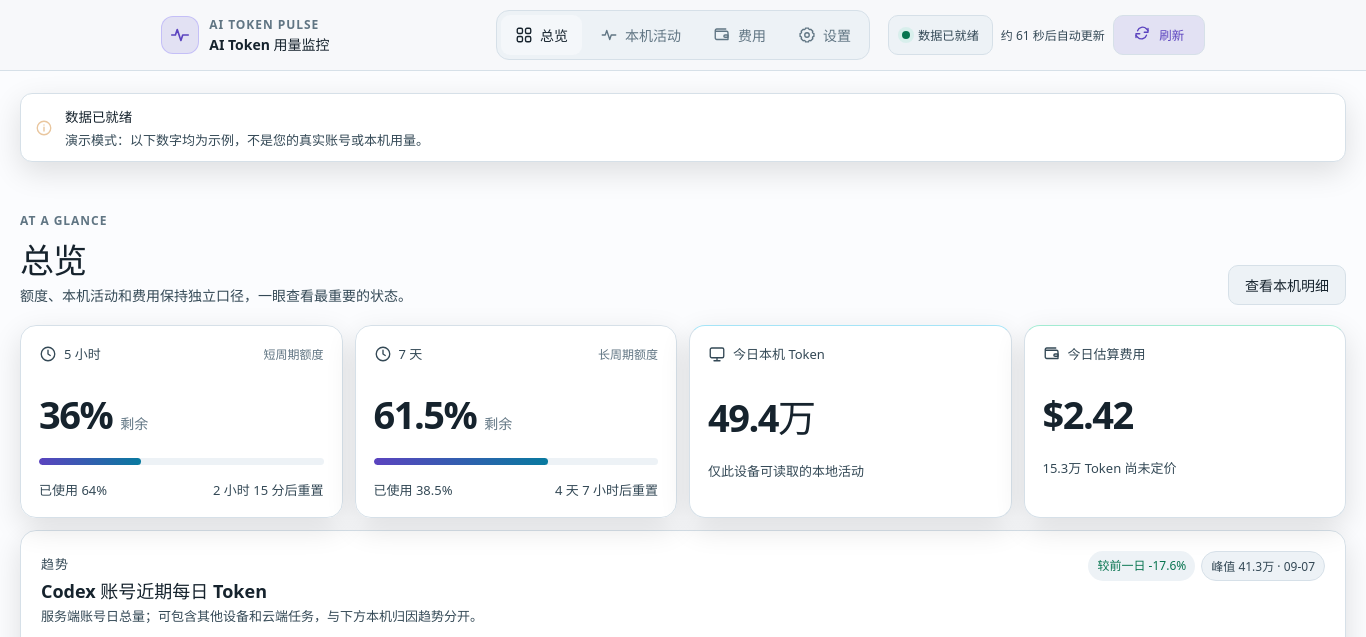
dashboard interactions › uses dedicated wrappers for empty model and project attribution states
Click the button "本机活动": (640, 35) [586,15,695,55]
(page scrolled)
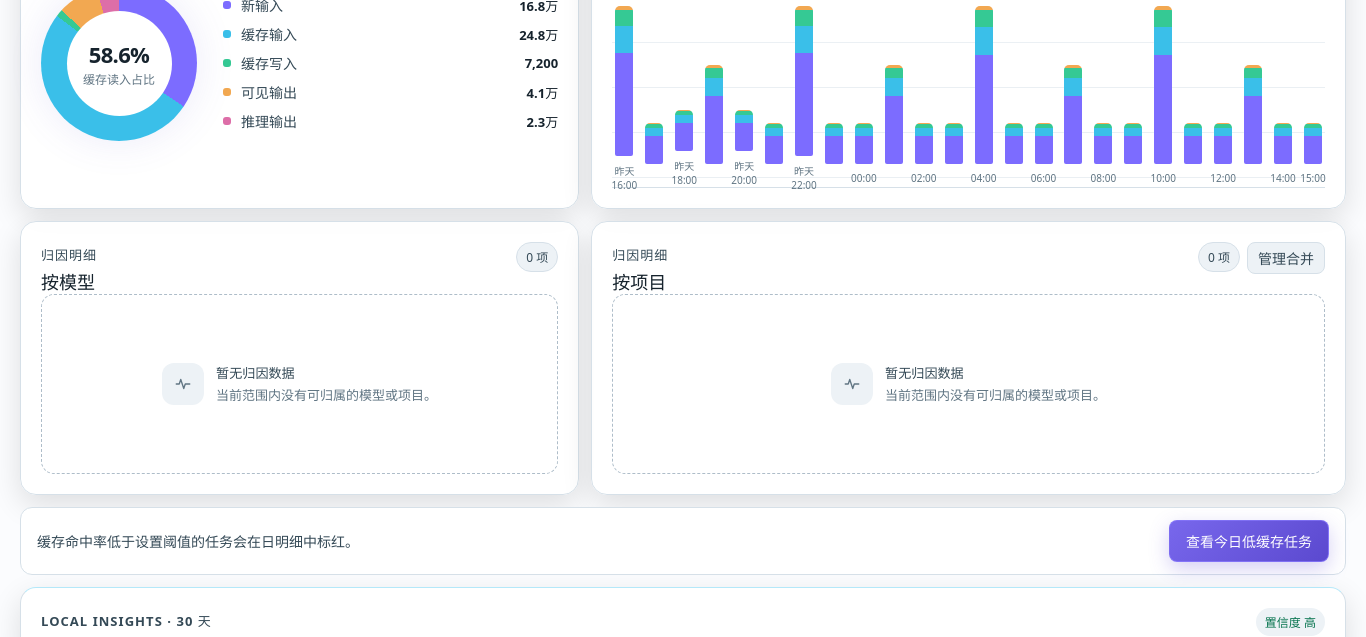
Result: the text "暂无归因数据" is shown 2 times at [216,364,295,382]; [885,364,964,382]
Result: the icon with class "empty-state__icon" below "按模型" is shown at [162,363,204,405]
Result: the element with class "empty-state__content" below "按模型" is shown at [216,363,437,405]
